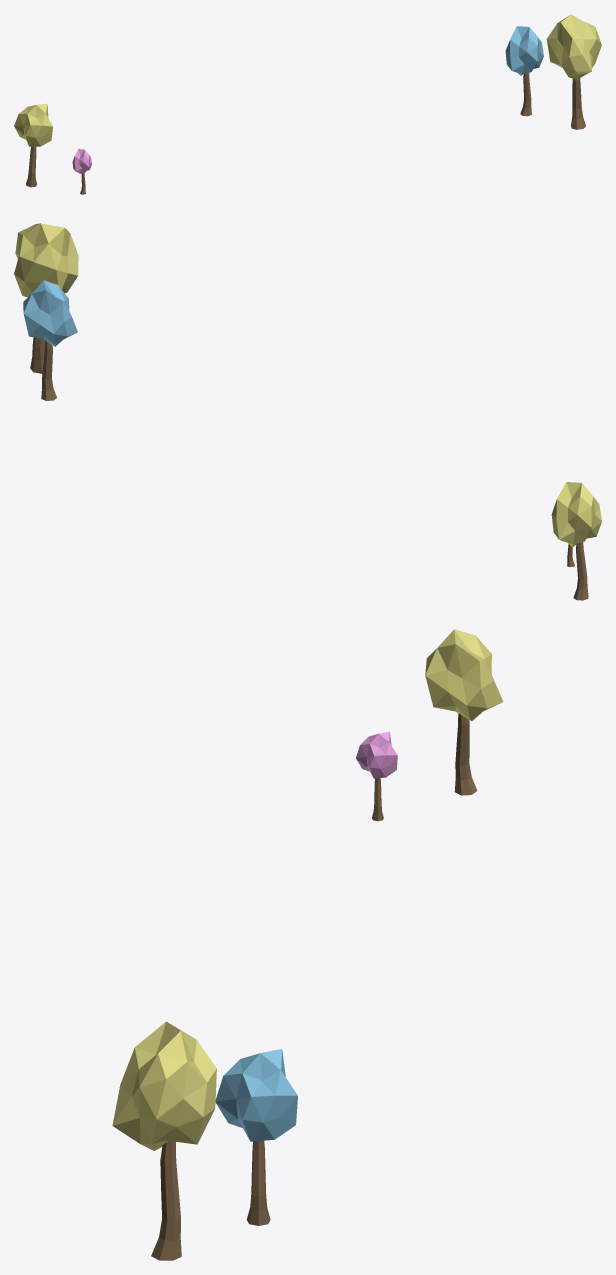
File: trees.fbx
3 renders of one model, top to bottom at view 1: azimuth 30°, elevation 25°; view 2: azimuth 150°, elevation 25°; view 3: azimuth 270°, elevation 25°, orthographic. The views are drawn at different scales.
Parts seen in each view (by area): view 1: tree1, tree3, tree2, tree4; view 2: tree1, tree3, tree2; view 3: tree1, tree3, tree2, tree4.
Part boxes in pixels (x1,y1,x2,y2): tree1: [546, 14, 601, 129]; tree3: [505, 26, 543, 116]; tree2: [14, 103, 52, 187]; tree4: [72, 149, 91, 194]; tree1: [14, 223, 78, 373]; tree3: [23, 280, 77, 400]; tree2: [551, 482, 601, 600]; tree1: [112, 1021, 216, 1260]; tree3: [215, 1049, 297, 1225]; tree2: [425, 629, 503, 795]; tree4: [356, 731, 397, 821].
Size of the model in its own units: 0.8743 by 0.183 by 0.2928.
